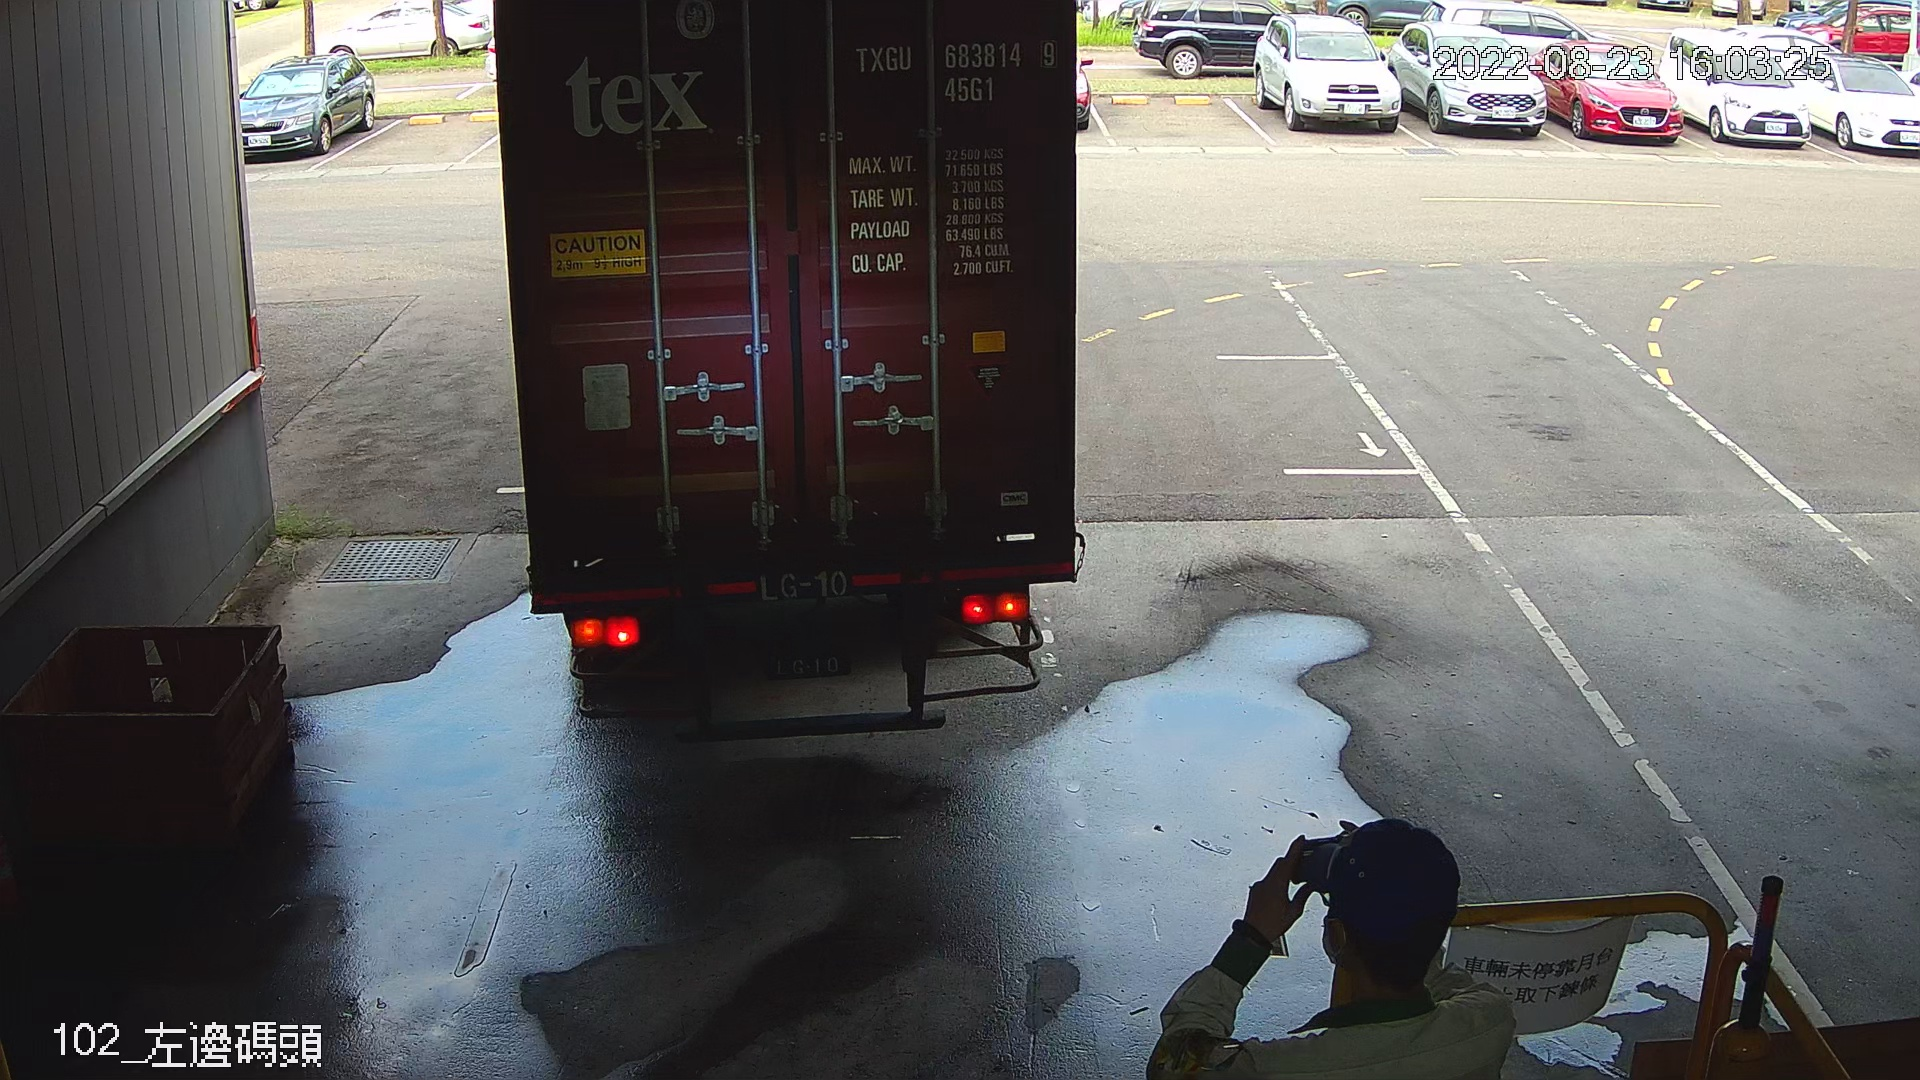container: (847, 32, 1064, 113)
